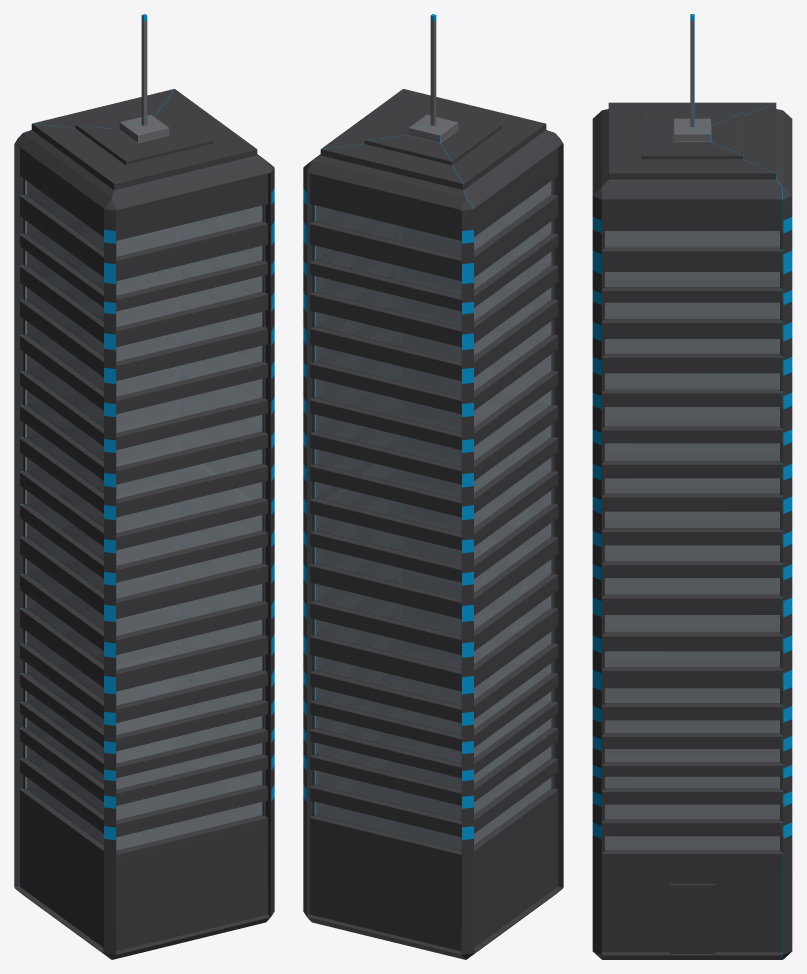
File: SkyScraperPoint.fbx
The picture shows the model from 3 angles, left to right: view 1: azimuth 30°, elevation 25°; view 2: azimuth 150°, elevation 25°; view 3: azimuth 270°, elevation 25°; orthographic projection.
Visible parts, largest first — view 1: Skyscrape_w_point1; view 2: Skyscrape_w_point1; view 3: Skyscrape_w_point1.
Part boxes in pixels (x1,y1,x2,y2): Skyscrape_w_point1: [14, 14, 274, 959]; Skyscrape_w_point1: [303, 14, 563, 959]; Skyscrape_w_point1: [592, 14, 792, 959].
Size of the model in its own units: 3060 by 15315 by 3060.
